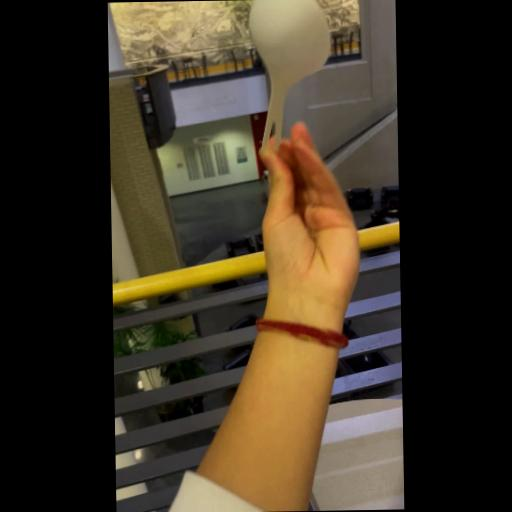utensil: (245, 0, 335, 163)
